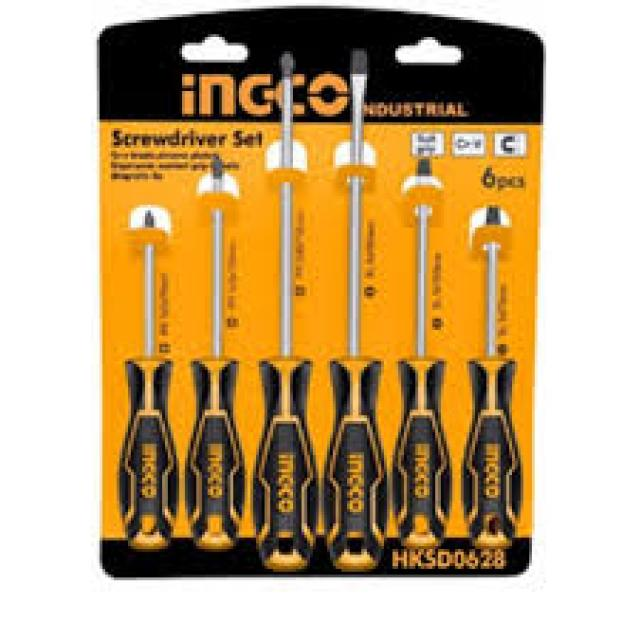screw driver: (318, 42, 401, 529), (242, 56, 322, 544), (189, 133, 256, 534), (394, 138, 451, 480)
